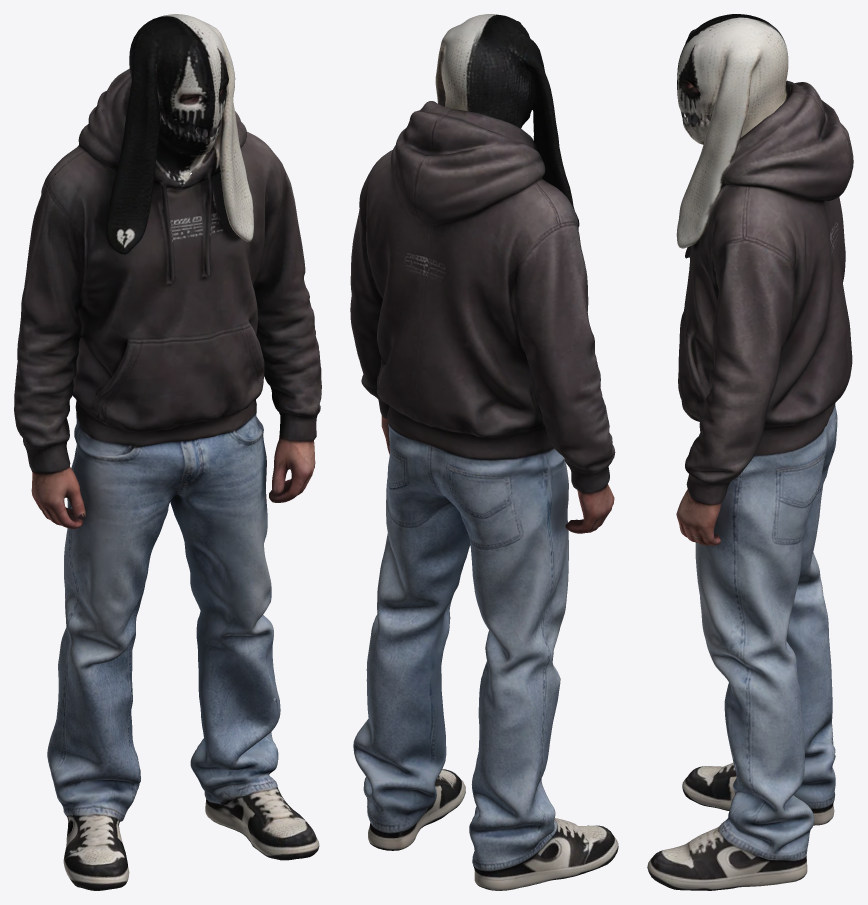
Rendered from izad-hologram.glb.
The picture shows the model from 3 angles, left to right: view 1: azimuth 30°, elevation 25°; view 2: azimuth 150°, elevation 25°; view 3: azimuth 270°, elevation 25°; orthographic projection.
Parts seen in each view (by area): view 1: tripo_node_24383c28; view 2: tripo_node_24383c28; view 3: tripo_node_24383c28.
Boxes of the visible parts, x1,y1,x2,y2 form: tripo_node_24383c28: (14, 14, 321, 890); tripo_node_24383c28: (350, 14, 618, 890); tripo_node_24383c28: (647, 14, 853, 890).
Bounding box in the file's own units: 0.3364 × 0.9786 × 0.2218.
1 material, 1 textured.
